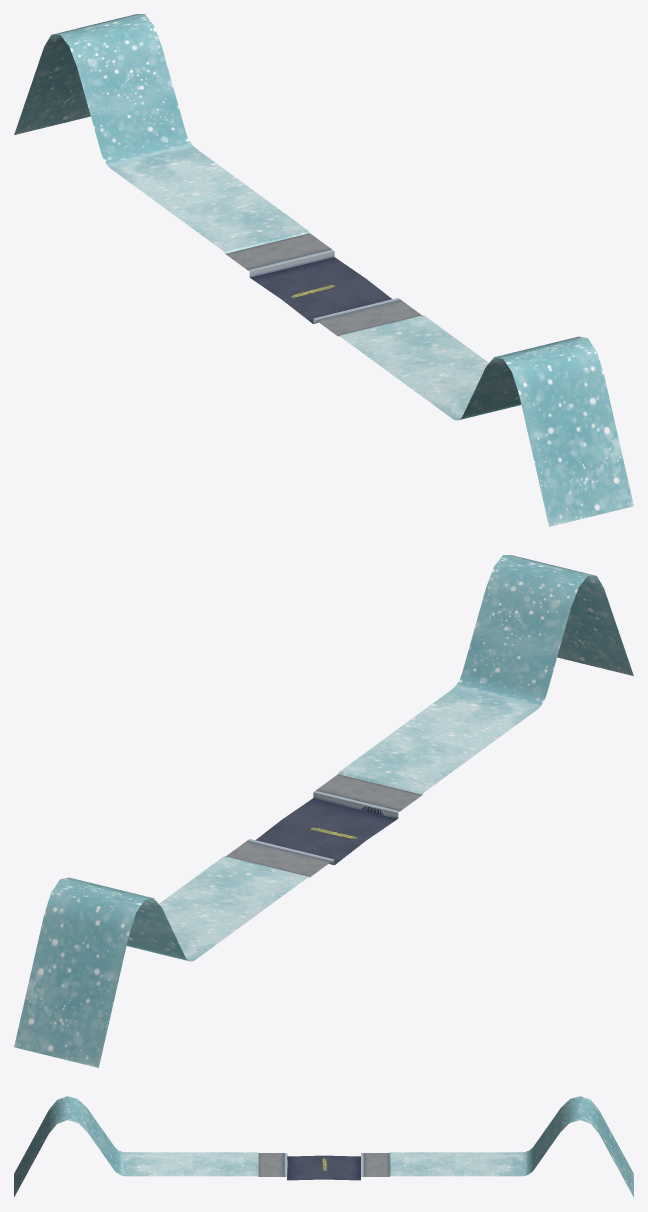
File: street3.fbx
3 renders of one model, top to bottom at view 1: azimuth 30°, elevation 25°; view 2: azimuth 150°, elevation 25°; view 3: azimuth 270°, elevation 25°, orthographic. The views are drawn at different scales.
Parts seen in each view (by area): view 1: Plane; view 2: Plane; view 3: Plane.
Boxes of the visible parts, x1=… form: Plane: x1=14, y1=14, x2=633, y2=526; Plane: x1=14, y1=555, x2=633, y2=1067; Plane: x1=14, y1=1096, x2=633, y2=1197.
Size of the model in its own units: 769 by 1162 by 8400.
8 materials, 8 textured.
